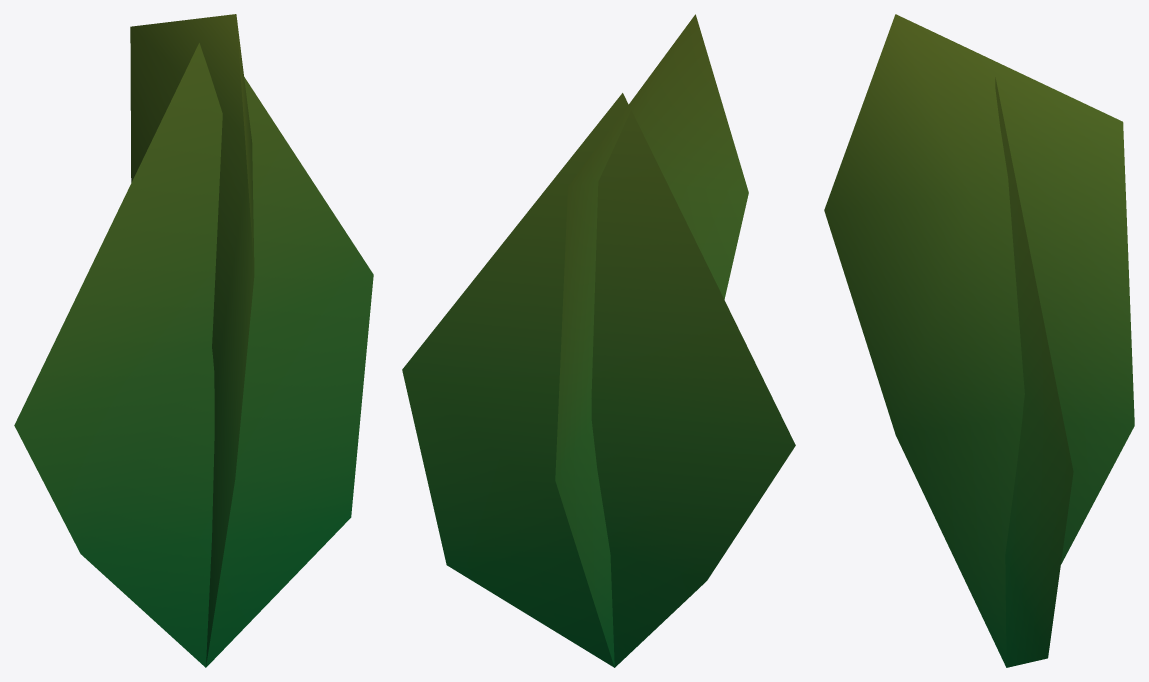
Rendered from moss_01_6.glb.
3 views of the same model, side by side, from view 1: azimuth 30°, elevation 25°; view 2: azimuth 150°, elevation 25°; view 3: azimuth 270°, elevation 25° (orthographic). The views are drawn at different scales.
Visible parts, largest first — view 1: moss_01_g_LOD0; view 2: moss_01_g_LOD0; view 3: moss_01_g_LOD0.
Part boxes in pixels (x1,y1,x2,y2): moss_01_g_LOD0: [14, 14, 373, 667]; moss_01_g_LOD0: [402, 14, 795, 667]; moss_01_g_LOD0: [824, 14, 1134, 667].
Size of the model in its own units: 0.0129 by 0.0216 by 0.00948.
